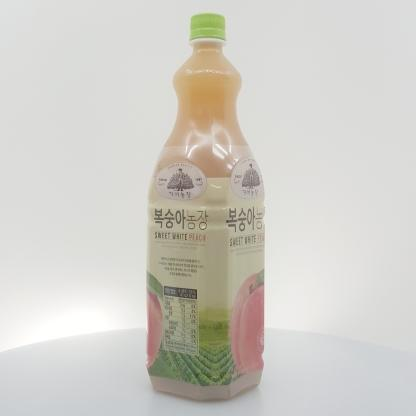-------1-5L: (145, 13, 265, 401)
